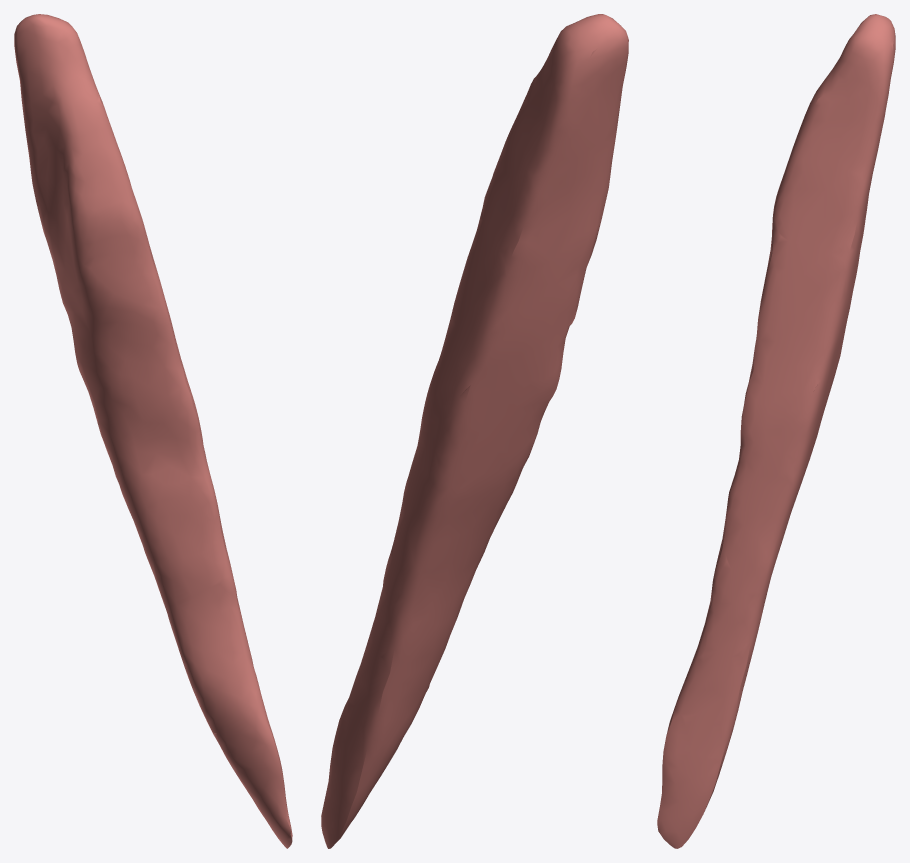
Rendered from fma40842-n_mm1825m.glb.
3 renders of one model, left to right at view 1: azimuth 30°, elevation 25°; view 2: azimuth 210°, elevation 25°; view 3: azimuth 270°, elevation 25°, orthographic. The views are drawn at different scales.
Visible parts, largest first — view 1: FMA40842-N_MM1825M; view 2: FMA40842-N_MM1825M; view 3: FMA40842-N_MM1825M.
Part boxes in pixels (left/top/right/bottom): FMA40842-N_MM1825M: left=14, top=14, right=292, bottom=848; FMA40842-N_MM1825M: left=321, top=14, right=628, bottom=848; FMA40842-N_MM1825M: left=657, top=14, right=895, bottom=848.
Bounding box in the file's own units: 0.014 × 0.0648 × 0.0183.
